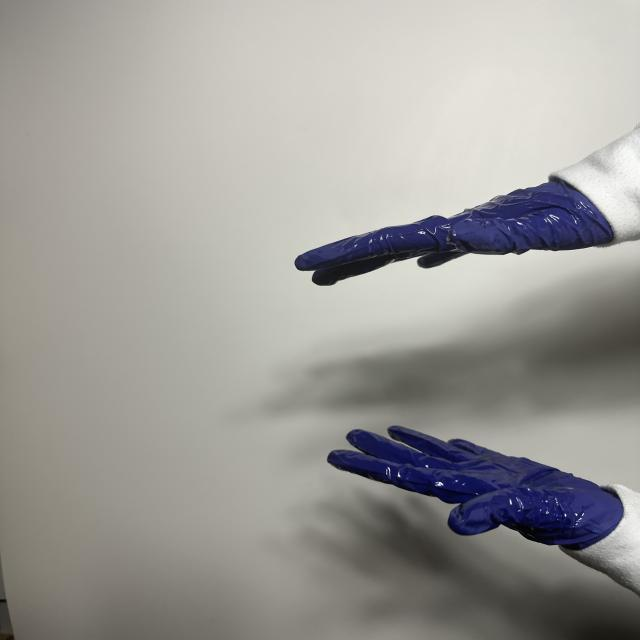gloves_contaminated: (328, 427, 622, 548), (296, 179, 613, 285)
